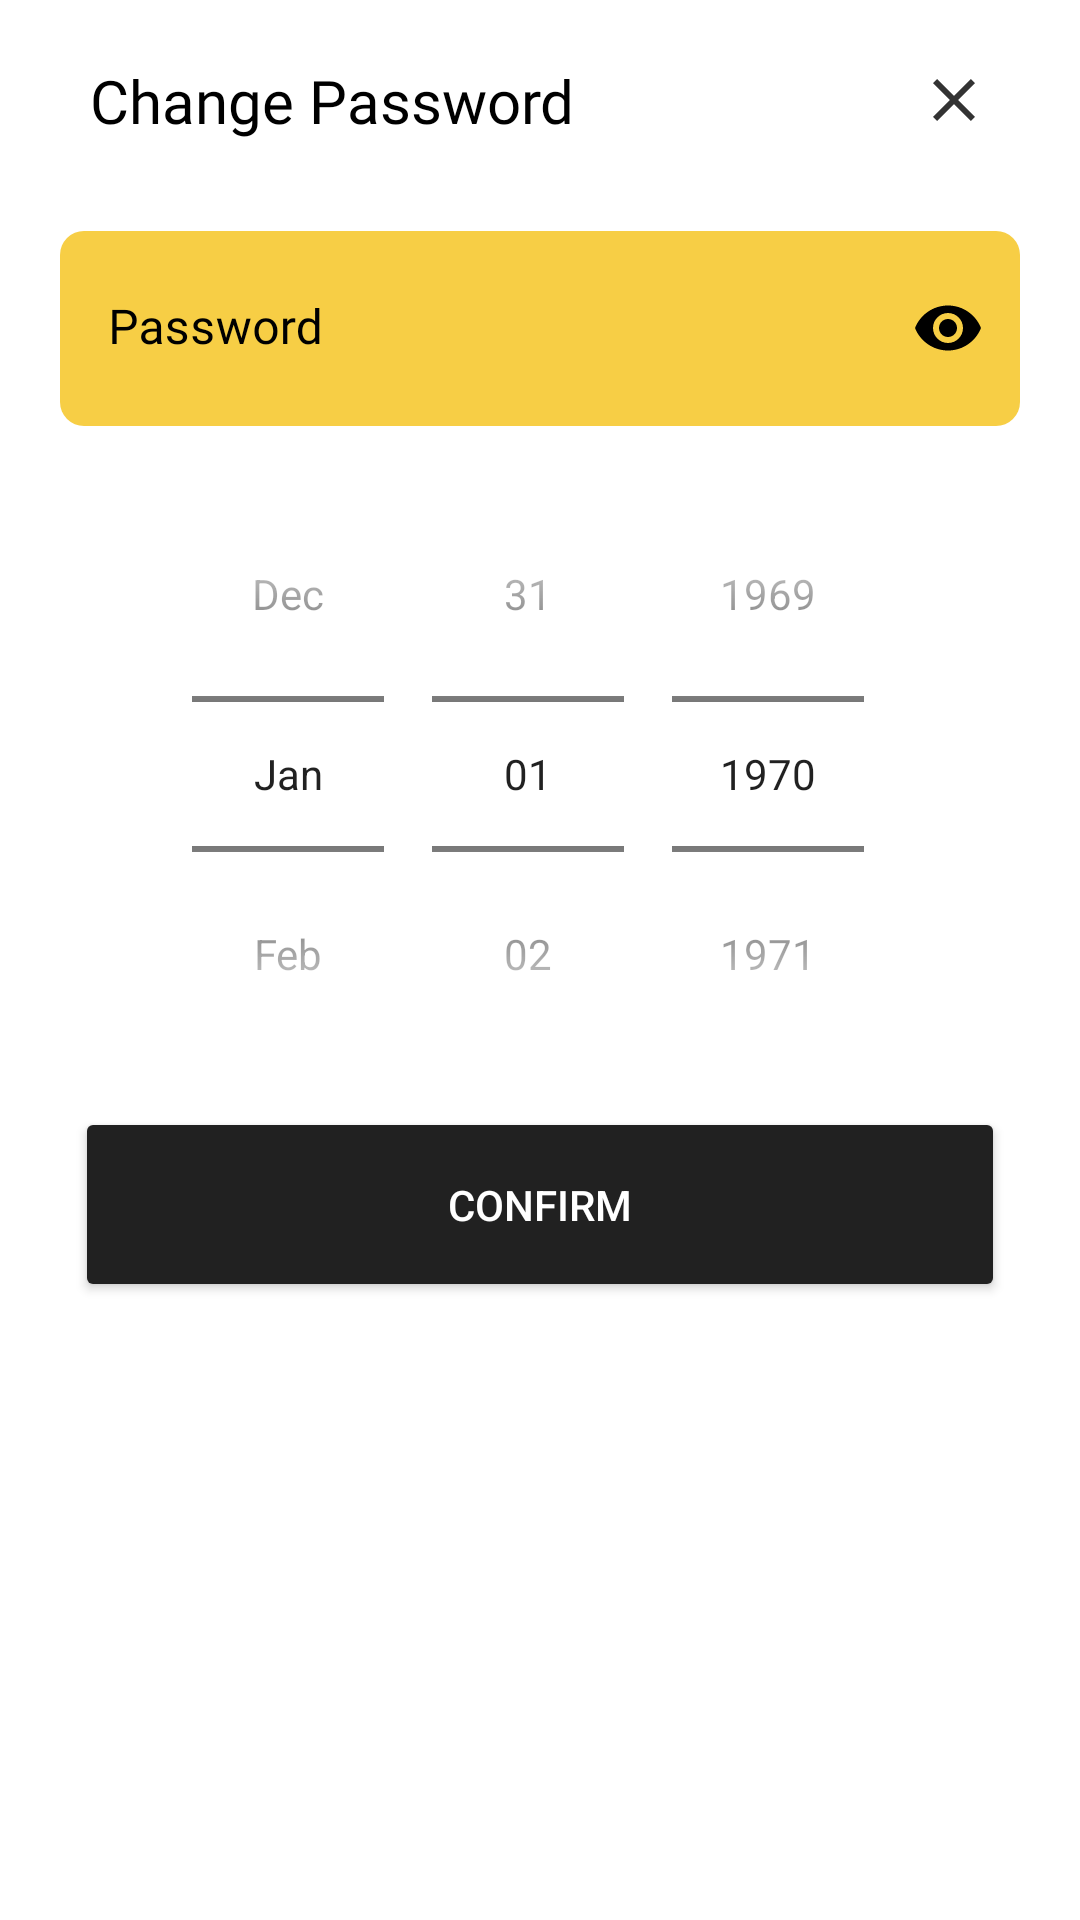

Where to tap for icons on this 1080 × 1920 app screen, as (x,y):
close: (954,100)
